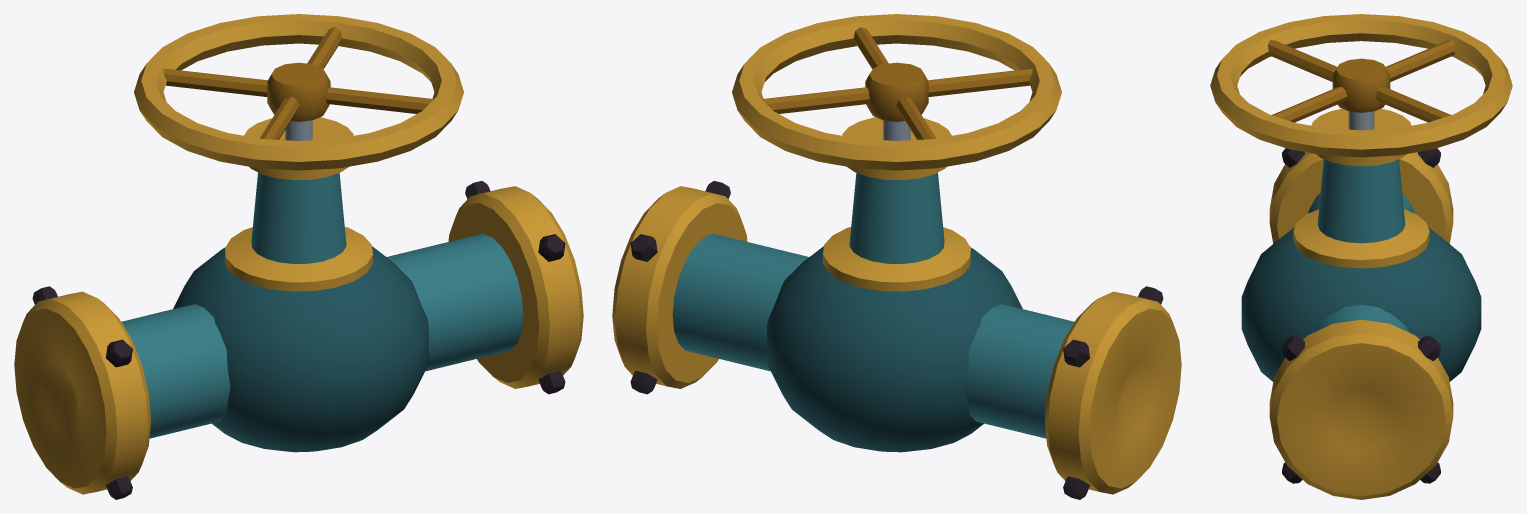
File: Valve_20.glb
The picture shows the model from 3 angles, left to right: view 1: azimuth 30°, elevation 25°; view 2: azimuth 150°, elevation 25°; view 3: azimuth 270°, elevation 25°; orthographic projection. The views are drawn at different scales.
Parts seen in each view (by area): view 1: Valve_20; view 2: Valve_20; view 3: Valve_20.
Part boxes in pixels (x1,y1,x2,y2): Valve_20: (14, 14, 583, 499); Valve_20: (612, 14, 1181, 499); Valve_20: (1210, 14, 1512, 499).
Bounding box in the file's own units: 2.79 × 2.04 × 1.67.
